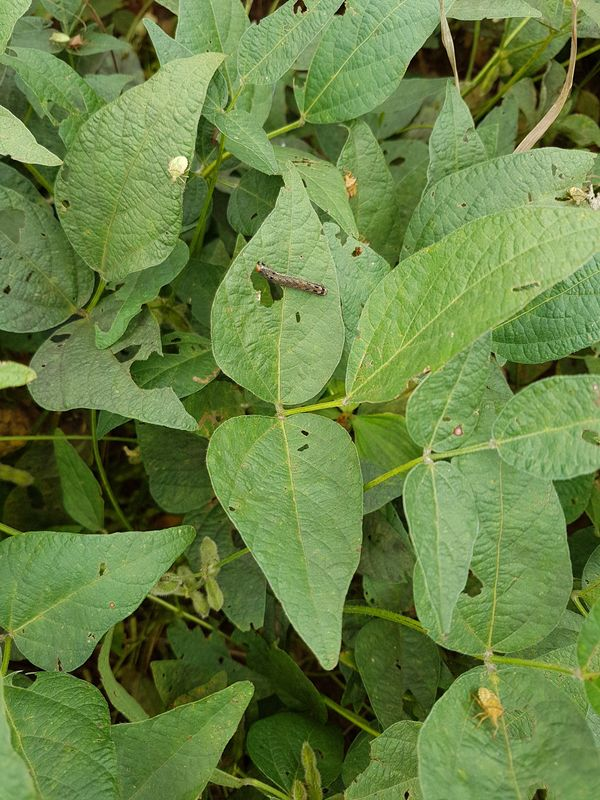Euschistus_heros_adulto: (335, 165, 365, 202), (70, 31, 92, 53)
Euschistus_heros_ninfa: (462, 680, 518, 740), (161, 151, 199, 188), (563, 180, 591, 211), (45, 28, 69, 51)
Spodoptera_albula: (247, 255, 331, 312)
